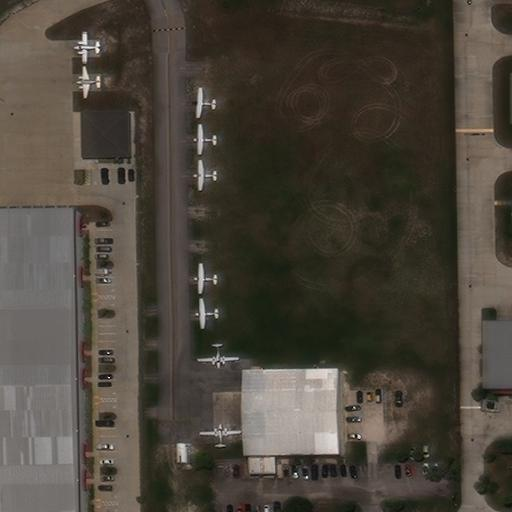Small Civil Transport: (195, 343, 239, 369), (198, 423, 241, 448), (73, 30, 101, 64), (192, 262, 220, 294), (192, 160, 218, 192), (193, 297, 219, 329), (76, 66, 101, 99), (191, 86, 216, 119), (192, 124, 218, 155), (0, 222, 5, 250)
